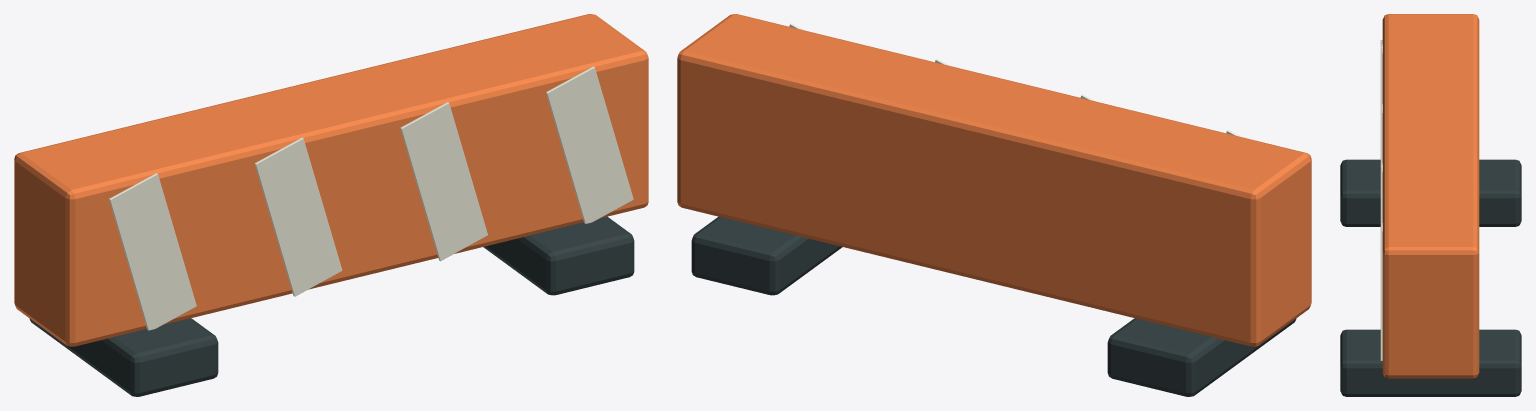
File: barrier.glb
3 views of the same model, side by side, from view 1: azimuth 30°, elevation 25°; view 2: azimuth 150°, elevation 25°; view 3: azimuth 270°, elevation 25° (orthographic). The views are drawn at different scales.
Parts seen in each view (by area): view 1: Barrier, Reflective stripe.002, Reflective stripe.001, Reflective stripe, Reflective stripe.003, Barrier foot, Barrier foot.001; view 2: Barrier, Barrier foot, Barrier foot.001; view 3: Barrier, Barrier foot.001, Barrier foot, Reflective stripe.003, Reflective stripe, Reflective stripe.002, Reflective stripe.001.
Boxes of the visible parts, box(x1,y1,x2,y2) form: Barrier: box(14, 14, 648, 346); Reflective stripe.002: box(400, 102, 487, 261); Reflective stripe.001: box(254, 137, 342, 296); Reflective stripe: box(109, 173, 196, 330); Reflective stripe.003: box(546, 66, 633, 223); Barrier foot: box(29, 318, 218, 396); Barrier foot.001: box(483, 216, 634, 295); Barrier: box(677, 14, 1311, 346); Barrier foot: box(1107, 318, 1296, 396); Barrier foot.001: box(691, 216, 842, 295); Barrier: box(1382, 14, 1479, 378); Barrier foot.001: box(1340, 329, 1521, 396); Barrier foot: box(1340, 159, 1521, 226); Reflective stripe.003: box(1380, 218, 1382, 360); Reflective stripe: box(1380, 40, 1382, 99); Reflective stripe.002: box(1380, 159, 1382, 218); Reflective stripe.001: box(1380, 99, 1382, 158).
Bounding box in the file's own units: 2.8 × 0.91 × 0.9.
